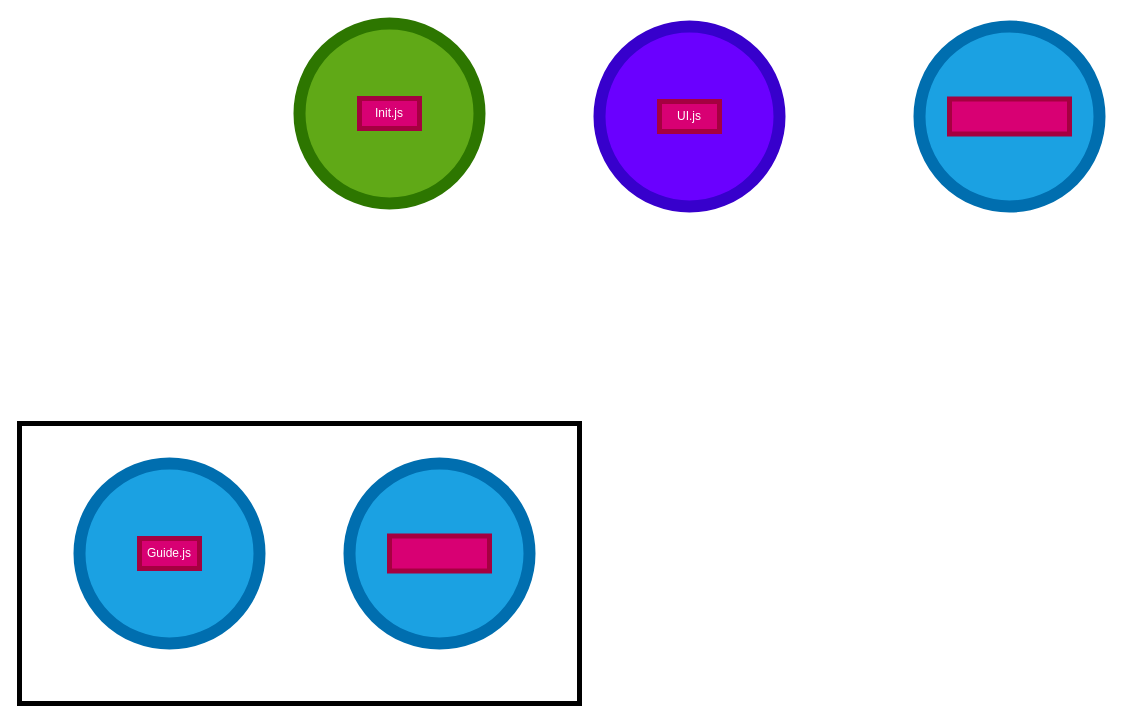
Some shapes in this 1123 by 723 pixel diagram are drawn without their labels. Each missing label, with the centre of its shape:
"Create_Guides.js" belongs at [439,553].
"ManageStorage.js" belongs at [1009,116].
